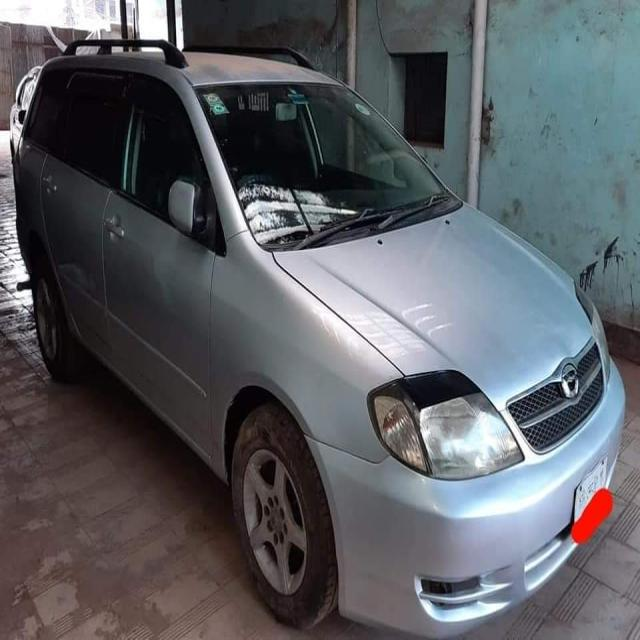silver: (3, 49, 610, 598)
